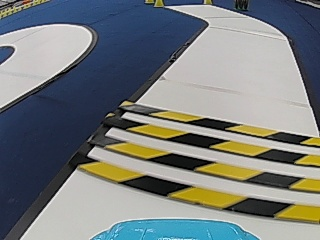bump: (76, 100, 320, 229)
